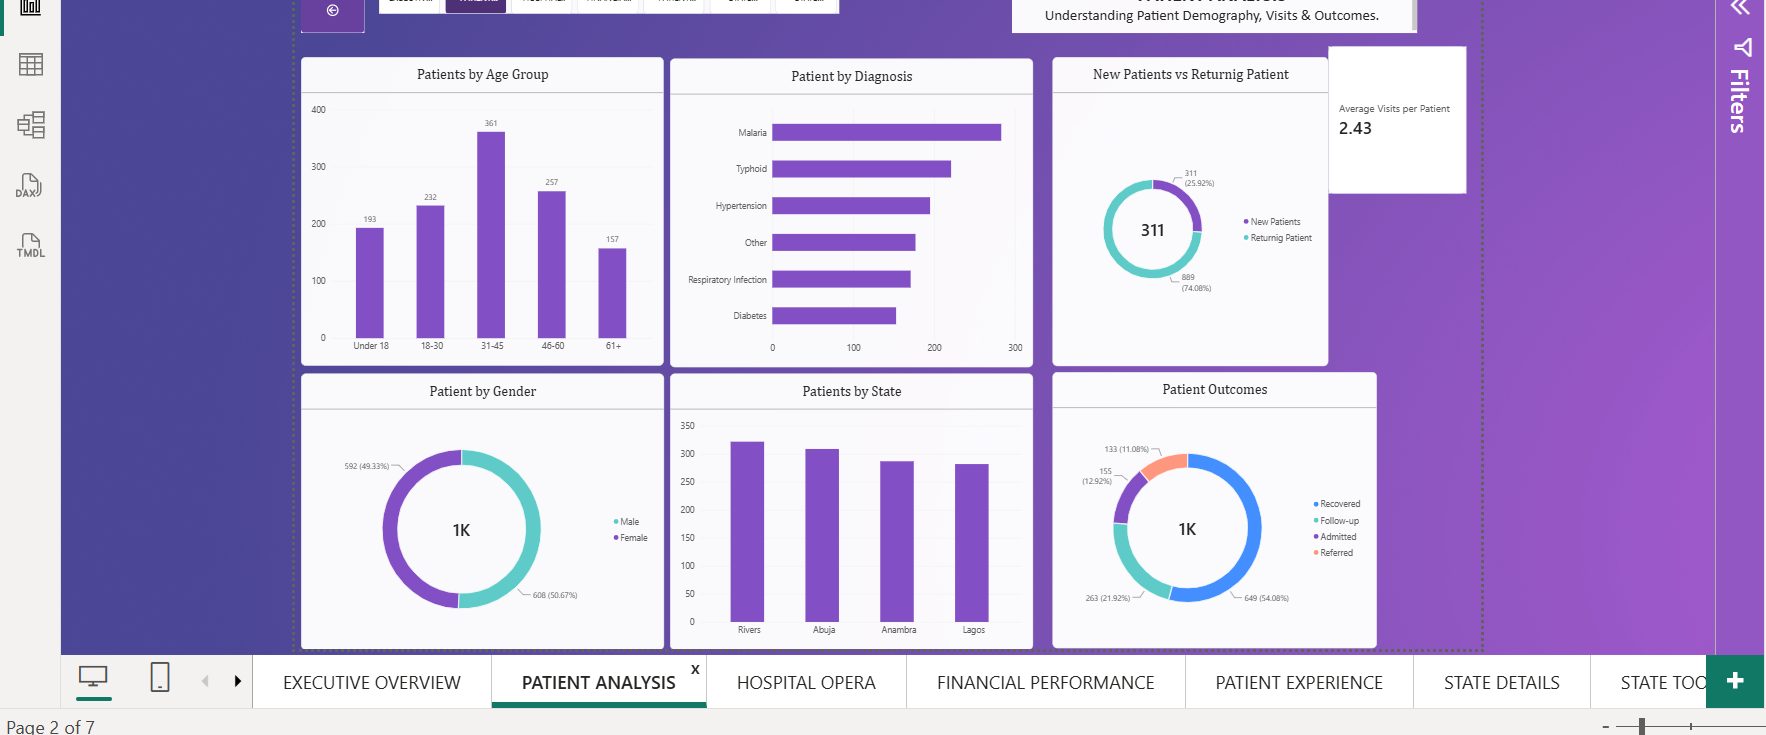

Layout of this report page (visuals, bound fields, positions):
{"tool":"powerbi","page":{"name":"PATIENT ANALYSIS","canvas":[1920,1080],"ordinal":1},"visuals":[{"type":"textbox","box":[1161,0,655.8,82.6],"z":0},{"type":"clusteredColumnChart","title":"Patients by Age Group","fields":{"Category":["Patient_Visits.Age Group"],"Y":["Patient_Visits.Total Patient"]},"box":[10,122.5,587.5,500],"z":1},{"type":"donutChart","title":"Patient by Gender","fields":{"Category":["Patient_Visits.Gender"],"Y":["Patient_Visits.Total Patient"]},"box":[10,633,588,447],"z":2},{"type":"clusteredBarChart","title":"Patient by Diagnosis","fields":{"Category":["Patient_Visits.Diagnosis"],"Y":["Patient_Visits.Total Patient"]},"box":[608,123,588,500],"z":3},{"type":"clusteredColumnChart","title":"Patients by State ","fields":{"Category":["Patient_Visits.State"],"Y":["Patient_Visits.Total Patient"]},"box":[608,633,588,447],"z":4},{"type":"cardVisual","fields":{"Data":["Patient_Visits.Average Visits per Patient"]},"box":[1673.5,104.4,223.5,238],"z":5},{"type":"donutChart","title":"Patient Outcomes","fields":{"Category":["Patient_Visits.Outcome"],"Y":["Patient_Visits.Total Patient"]},"box":[1227.5,632.5,525,447.5],"z":6},{"type":"pageNavigator","box":[136,0,745.7,51],"z":7},{"type":"actionButton","box":[10,10,102.5,72.5],"z":8},{"type":"donutChart","title":"New Patients vs Returnig Patient","fields":{"Y":["Patient_Visits.New Patients","Patient_Visits.Returnig Patient"]},"box":[1226.6,121.4,446.9,500.3],"z":9}]}

Visuals, with their boxes on the page's 1920x1080 design canvas (x1, y1, x2, y2). These are canvas units, not pixel positions in the 1766x735 screenshot, which may show the page scaled, cropped or inside an application window:
textbox: bbox=[1161, 0, 1817, 83]
"Patients by Age Group" clusteredColumnChart: bbox=[10, 122, 598, 622]
"Patient by Gender" donutChart: bbox=[10, 633, 598, 1080]
"Patient by Diagnosis" clusteredBarChart: bbox=[608, 123, 1196, 623]
"Patients by State " clusteredColumnChart: bbox=[608, 633, 1196, 1080]
cardVisual - Patient_Visits.Average Visits per Patient: bbox=[1674, 104, 1897, 342]
"Patient Outcomes" donutChart: bbox=[1228, 632, 1752, 1080]
pageNavigator: bbox=[136, 0, 882, 51]
actionButton: bbox=[10, 10, 112, 82]
"New Patients vs Returnig Patient" donutChart: bbox=[1227, 121, 1674, 622]
